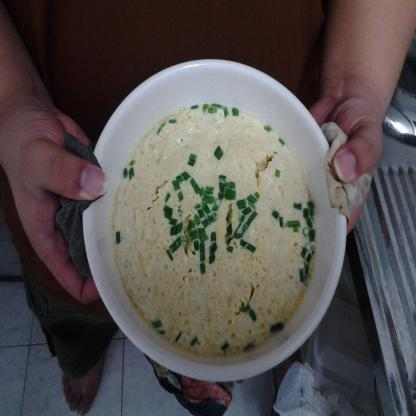Kaithoon: (92, 101, 341, 375)
